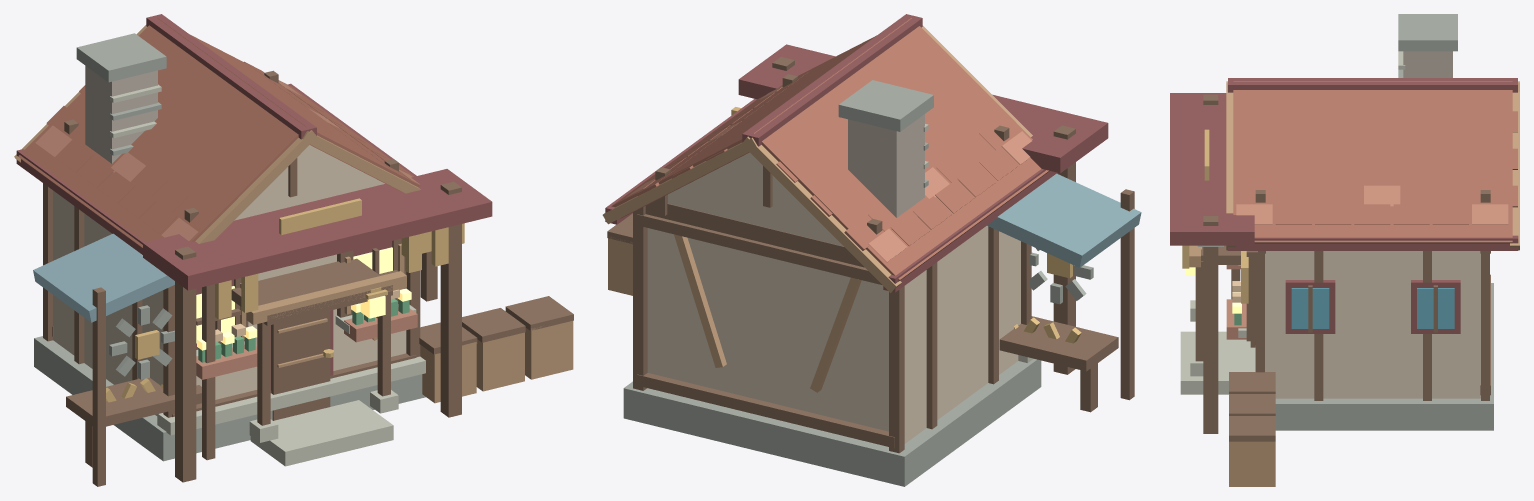
The model's file is village-kit.gltf.
The picture shows the model from 3 angles, left to right: view 1: azimuth 30°, elevation 25°; view 2: azimuth 150°, elevation 25°; view 3: azimuth 270°, elevation 25°; orthographic projection. The views are drawn at different scales.
Parts seen in each view (by area): view 1: ElderHall, Workshop, LowerCottage; view 2: ElderHall, Workshop, LowerCottage; view 3: ElderHall, LowerCottage.
Part boxes in pixels (x1,y1,x2,y2): ElderHall: (14, 14, 492, 482); Workshop: (33, 233, 215, 486); LowerCottage: (401, 223, 573, 403); ElderHall: (602, 14, 1108, 486); Workshop: (987, 173, 1141, 412); LowerCottage: (607, 107, 741, 295); ElderHall: (1170, 14, 1519, 433); LowerCottage: (1229, 251, 1275, 486).
Size of the model in its own units: 6.9 by 4.48 by 4.64.
